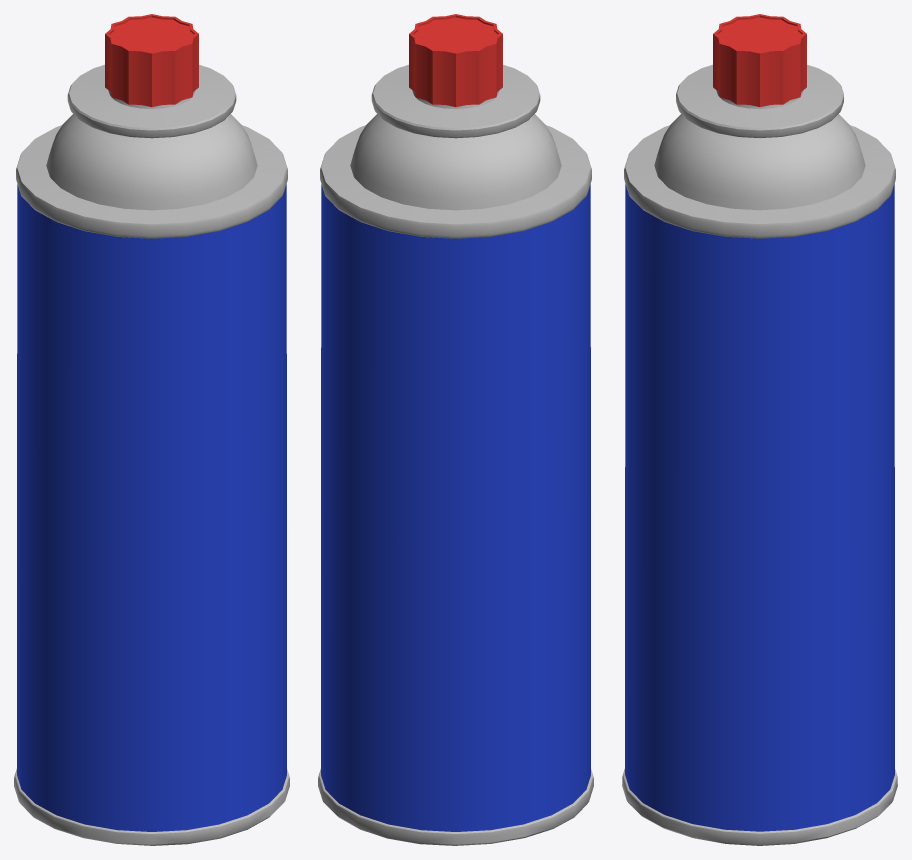
File: TabungGasMini.fbx
3 views of the same model, side by side, from view 1: azimuth 30°, elevation 25°; view 2: azimuth 150°, elevation 25°; view 3: azimuth 270°, elevation 25° (orthographic).
Visible parts, largest first — view 1: Circle.010; view 2: Circle.010; view 3: Circle.010.
Boxes of the visible parts, x1=… form: Circle.010: x1=14, y1=14, x2=289, y2=845; Circle.010: x1=318, y1=14, x2=593, y2=845; Circle.010: x1=622, y1=14, x2=897, y2=845.
Size of the model in its own units: 6.7 by 20.24 by 6.7.
